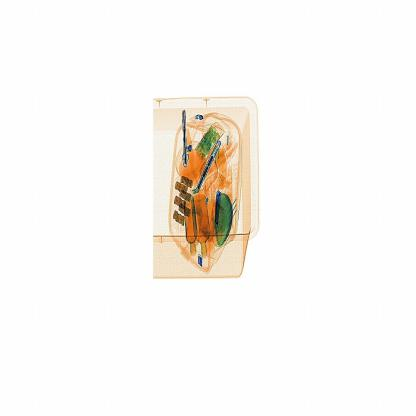knife: (177, 106, 190, 170)
